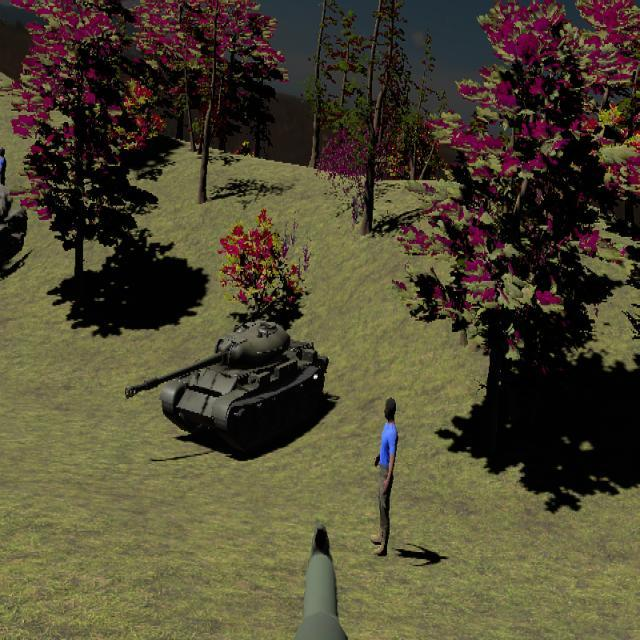Human: (372, 397, 398, 557)
Tank: (124, 319, 329, 455), (622, 301, 640, 344)
